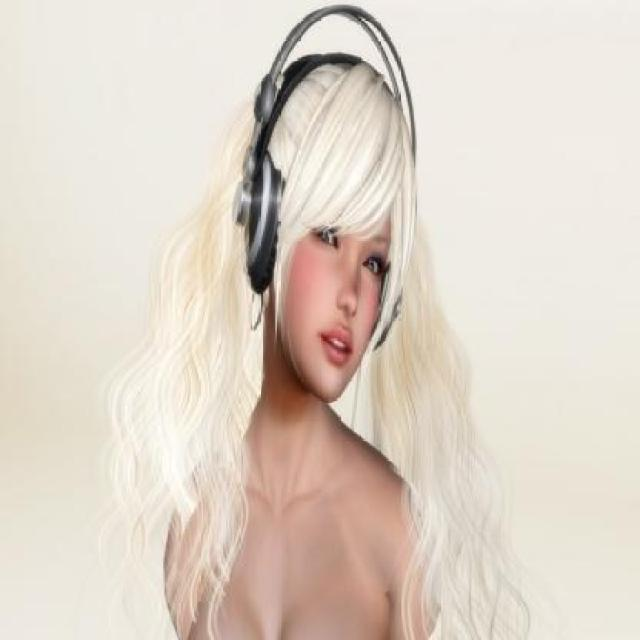earphone: (228, 10, 427, 332)
